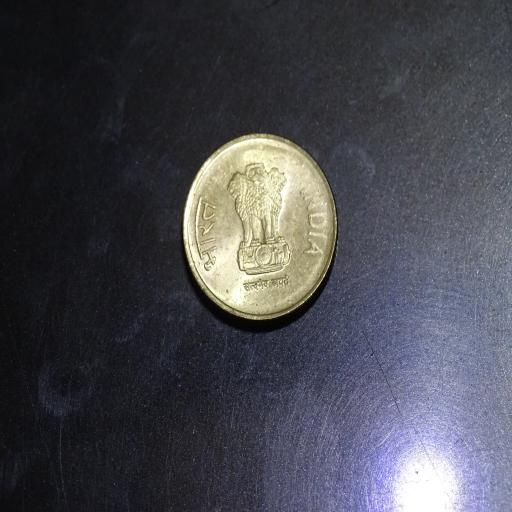rupee5: (181, 133, 339, 322)
